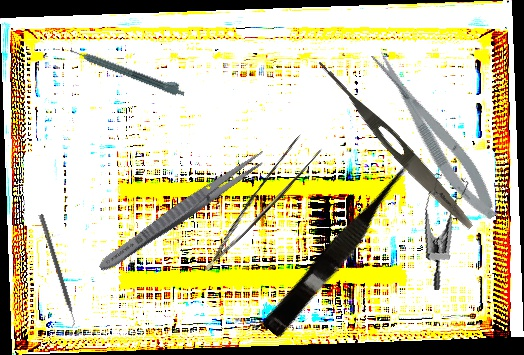Dressing Forceps: (309, 55, 479, 234), (94, 145, 271, 277)
Handpiece: (68, 41, 188, 99)
Micro Scissor: (261, 156, 422, 342), (365, 41, 506, 228)
Spatula Surgical: (33, 213, 80, 329)
Speculum: (408, 167, 490, 291)
Tissue Forceps: (185, 130, 327, 272)
